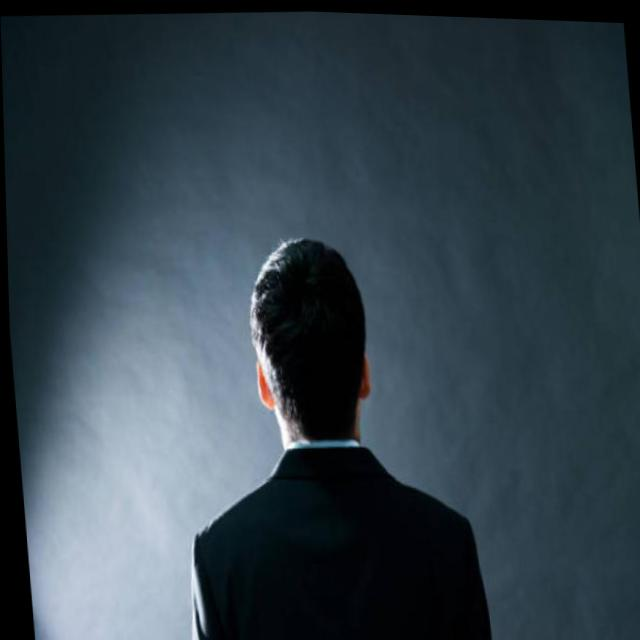no helmet: (231, 223, 399, 466)
